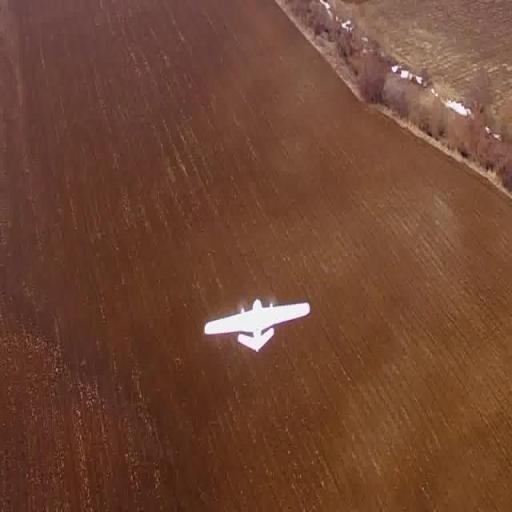uav: (202, 288, 316, 366)
